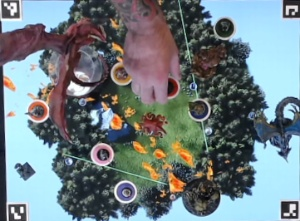blue: (186, 97, 212, 122)
green: (214, 17, 237, 40)
orange: (24, 98, 49, 124)
pink: (89, 141, 116, 166)
red: (158, 74, 180, 98)
violet: (113, 177, 138, 202)
yellow: (109, 58, 133, 85)
